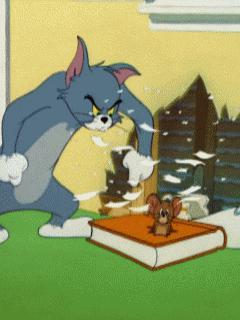jerry: (145, 193, 185, 237)
